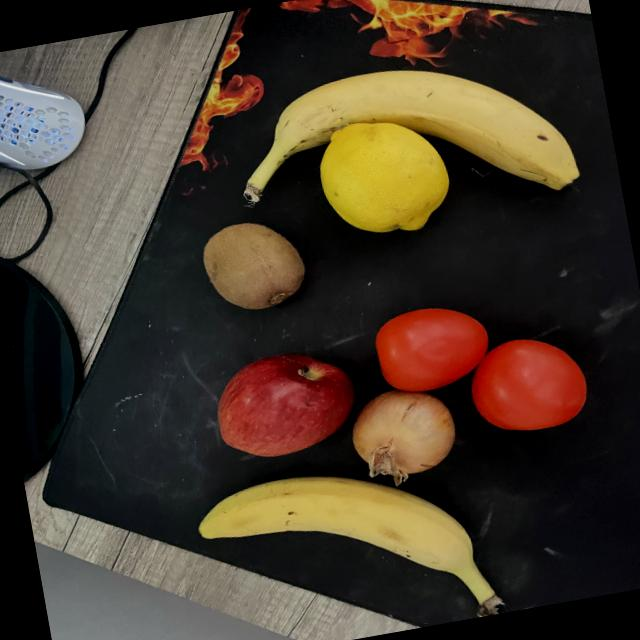tomato: (471, 339, 587, 430), (375, 308, 488, 392)
